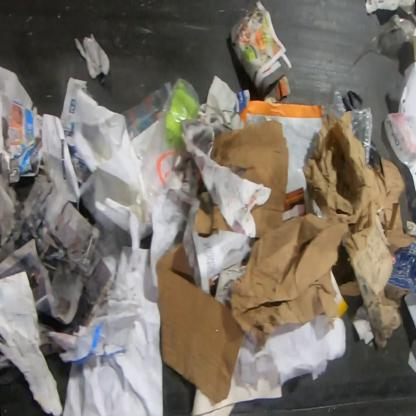cardboard: (230, 214, 350, 355), (155, 242, 246, 404), (209, 121, 288, 238), (379, 157, 415, 263), (192, 168, 234, 240), (386, 242, 415, 297)
rigid_plastic: (122, 79, 200, 193)
soft_plastic: (326, 90, 374, 166), (384, 111, 415, 168), (369, 140, 385, 176), (344, 87, 365, 111)
